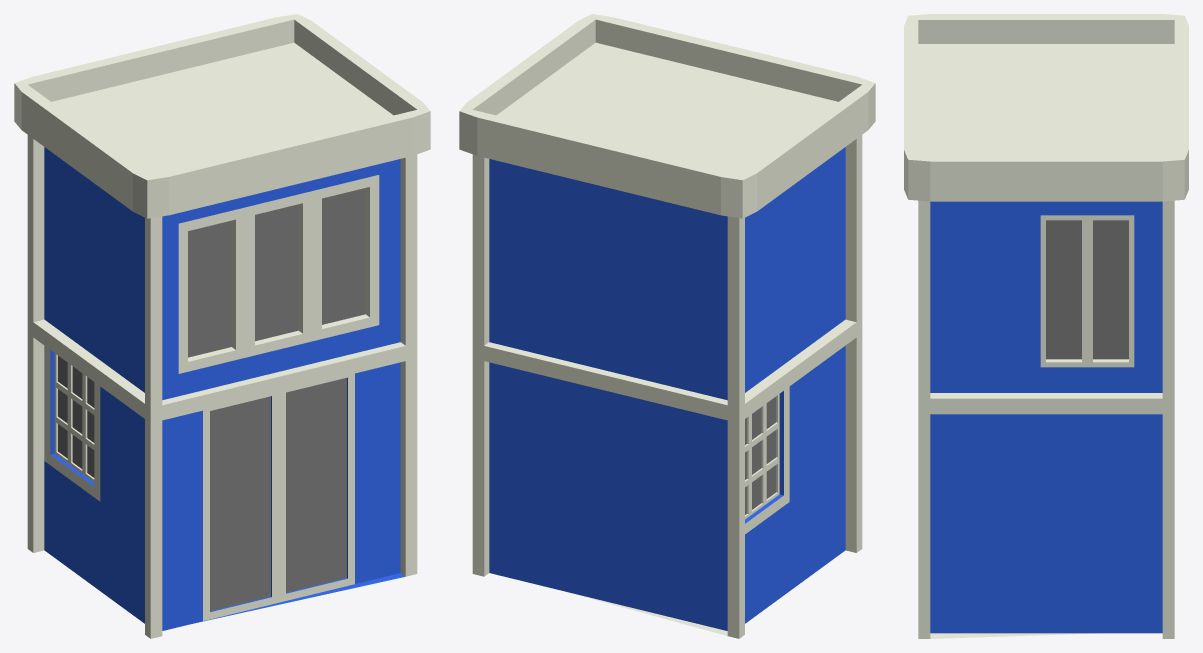
3 views of the same model, side by side, from view 1: azimuth 30°, elevation 25°; view 2: azimuth 150°, elevation 25°; view 3: azimuth 270°, elevation 25° (orthographic). The views are drawn at different scales.
Visible parts, largest first — view 1: 3; view 2: 3; view 3: 3.
Part boxes in pixels (x1=…): 3: x1=14, y1=14, x2=430, y2=638; 3: x1=459, y1=14, x2=875, y2=638; 3: x1=904, y1=14, x2=1188, y2=638.
Bounding box in the file's own units: 544 × 832 × 444.
